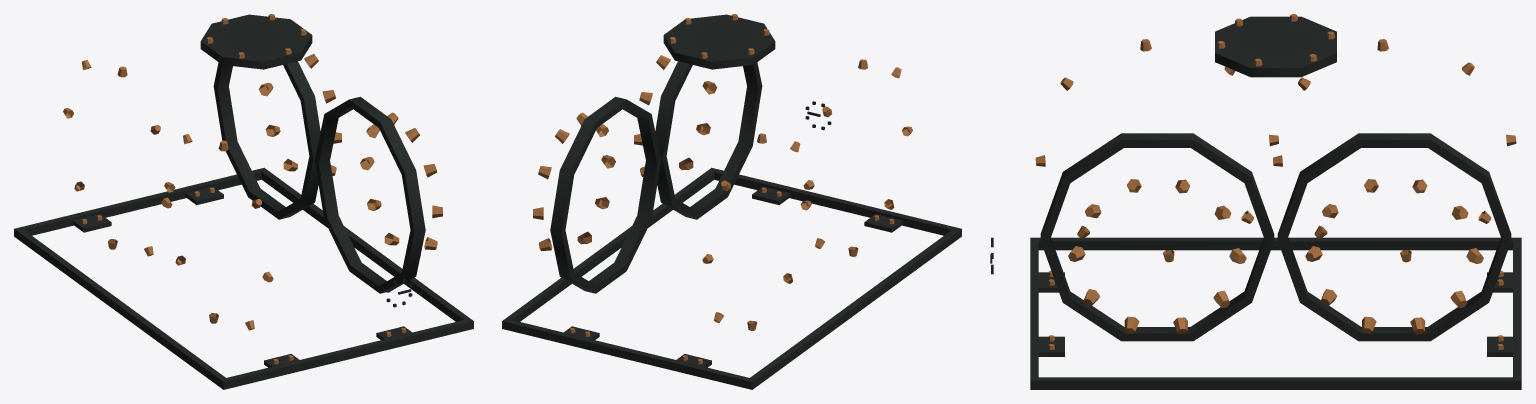
Rendered from lift_platform_detail2.glb.
The picture shows the model from 3 angles, left to right: view 1: azimuth 30°, elevation 25°; view 2: azimuth 150°, elevation 25°; view 3: azimuth 270°, elevation 25°; orthographic projection. The views are drawn at different scales.
Parts seen in each view (by area): view 1: Detail2; view 2: Detail2; view 3: Detail2.
Part boxes in pixels (box(x1,y1,x2,y2)): Detail2: box(14, 14, 473, 389); Detail2: box(502, 14, 961, 389); Detail2: box(990, 14, 1521, 389).
Bounding box in the file's own units: 4 × 3.75 × 6.27.
